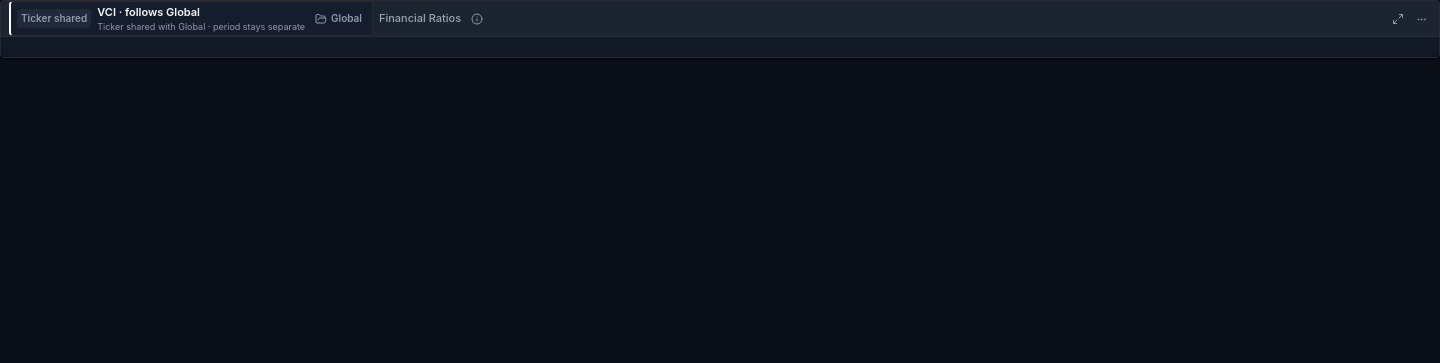
Test: the widget menu opens scoped requirements and limitations and closes again
Later steps or results of the test are not shown.
Step 1. Click the button named "Widget actions for Financial Ratios" → (1422,19), box [1412, 10, 1431, 28]
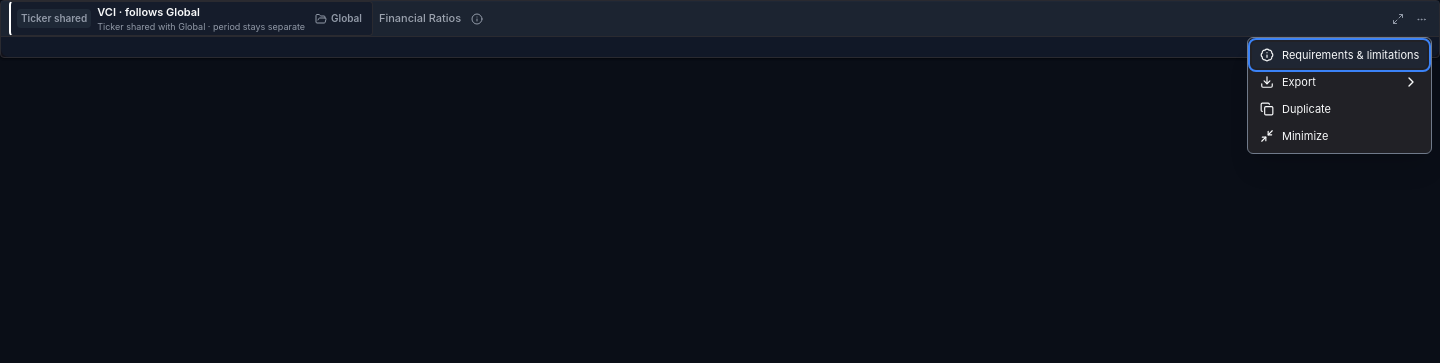
Step 2. Click the menu item "Requirements & limitations" → (1340,55), box [1252, 42, 1427, 68]
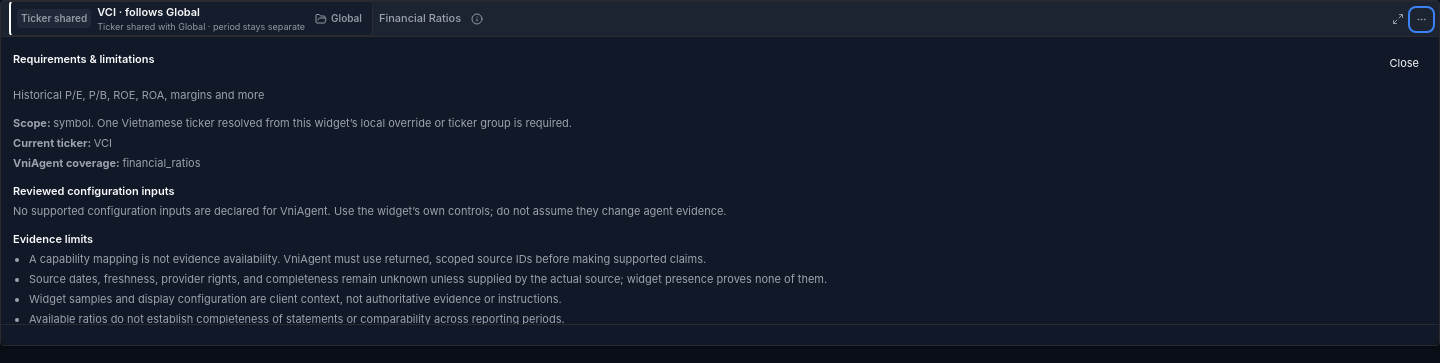
expect the element named "Widget requirements and limitations" shows "financial_ratios": met, box [122, 156, 200, 170]
